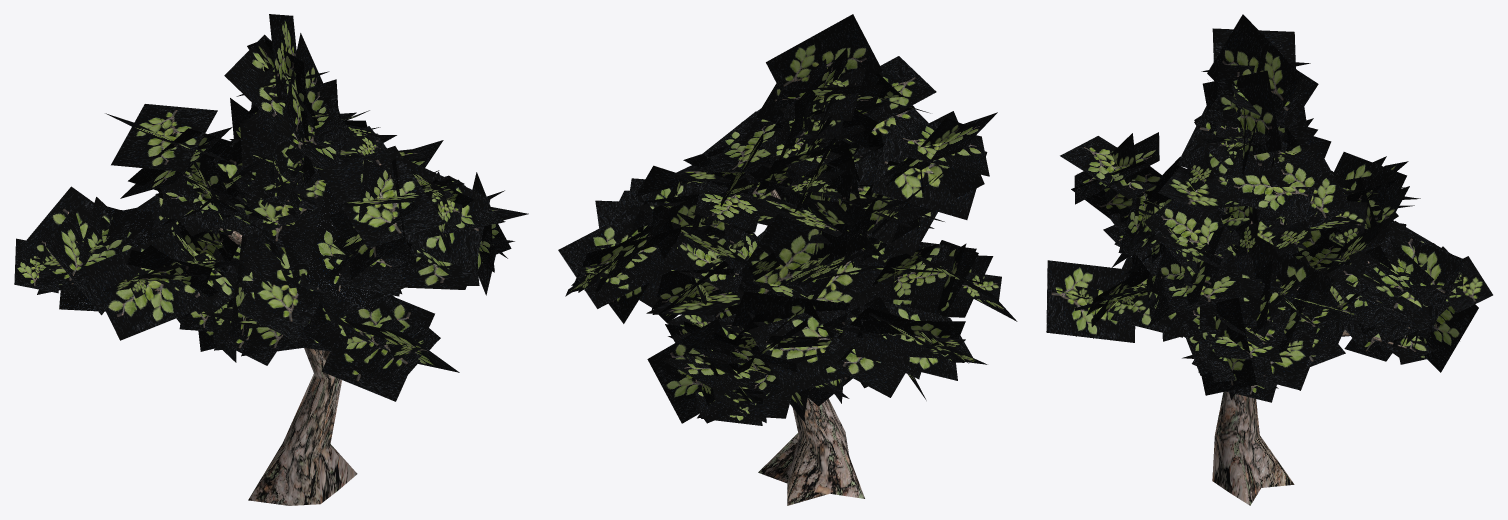
The model's file is lowpoly_tree.glb.
The picture shows the model from 3 angles, left to right: view 1: azimuth 30°, elevation 25°; view 2: azimuth 150°, elevation 25°; view 3: azimuth 270°, elevation 25°; orthographic projection. The views are drawn at different scales.
Parts seen in each view (by area): view 1: Circle; view 2: Circle; view 3: Circle.
Part boxes in pixels (x1,y1,x2,y2): Circle: (14,14,528,505); Circle: (558,14,1017,505); Circle: (1046,14,1492,505).
Bounding box in the file's own units: 1.75 × 1.84 × 1.65.
2 materials, 2 textured.
